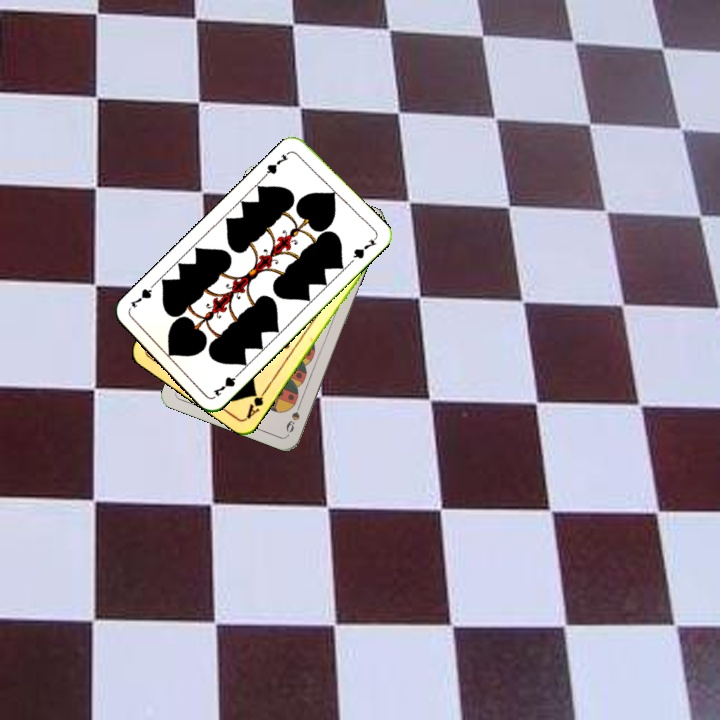G7: (209, 367, 244, 399), (260, 147, 293, 180)
GA: (242, 384, 270, 421)
S9: (282, 397, 304, 435)
